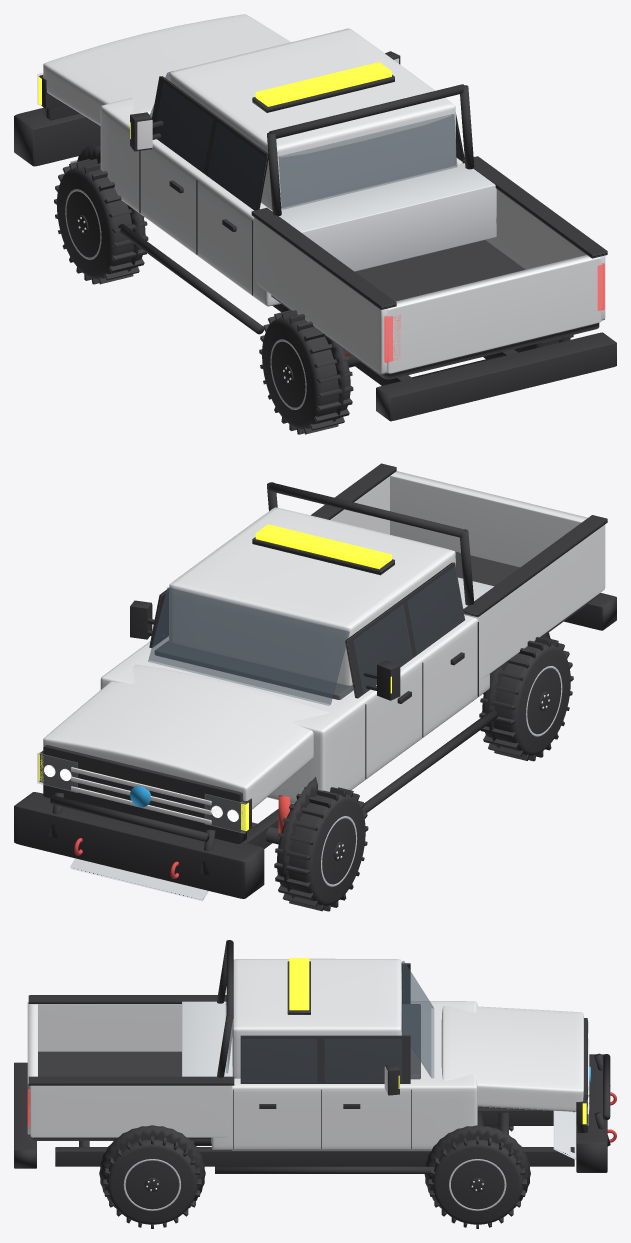
The model's file is mobile_truck.glb.
3 views of the same model, one above another, from view 1: azimuth 30°, elevation 25°; view 2: azimuth 150°, elevation 25°; view 3: azimuth 270°, elevation 25° (orthographic). The views are drawn at different scales.
Visible parts, largest first — view 1: Cab_Greenhouse, Tailgate, DiamondPlateToolbox, Cab_LowerBody, SculptedHood, RearCabWindow, RearStepBumper, BedSidePanel_-1, SideWindowFrame_-1, BedFloorLiner, TireCarcass_RL, TireCarcass_FL (+13 smaller); view 2: Cab_Greenhouse, SculptedHood, Cab_LowerBody, FlushWindshield, SteelWinchBumper, Tailgate, BedSidePanel_-1, FrontGrilleSurround, SideWindowFrame_-1, TireCarcass_FL, TireCarcass_RL, InteriorDashboard (+24 smaller); view 3: Cab_LowerBody, SculptedHood, Cab_Greenhouse, BedSidePanel_1, SideWindowFrame_1, BedSidePanel_-1, FrameRail_1, TireCarcass_FR, TireCarcass_RR, BedFloorLiner, RearDoorGlass_1, DiamondPlateToolbox (+18 smaller).
Boxes of the visible parts, x1,y1,x2,y2 form: Cab_Greenhouse: [169, 28, 455, 209]; Tailgate: [387, 255, 601, 373]; DiamondPlateToolbox: [271, 163, 496, 271]; Cab_LowerBody: [100, 98, 464, 306]; SculptedHood: [43, 14, 290, 125]; RearCabWindow: [278, 114, 457, 209]; RearStepBumper: [376, 332, 616, 421]; BedSidePanel_-1: [254, 217, 387, 374]; SideWindowFrame_-1: [152, 76, 268, 210]; BedFloorLiner: [271, 240, 599, 379]; TireCarcass_RL: [262, 317, 350, 429]; TireCarcass_FL: [57, 167, 145, 279]; Cab_Greenhouse: [169, 507, 455, 685]; SculptedHood: [43, 664, 329, 809]; Cab_LowerBody: [100, 614, 489, 803]; FlushWindshield: [148, 587, 349, 705]; SteelWinchBumper: [14, 792, 264, 898]; Tailgate: [390, 471, 587, 567]; BedSidePanel_-1: [465, 524, 605, 679]; FrontGrilleSurround: [43, 745, 246, 843]; SideWindowFrame_-1: [345, 562, 464, 698]; TireCarcass_FL: [277, 794, 365, 906]; TireCarcass_RL: [482, 644, 570, 756]; InteriorDashboard: [155, 641, 353, 699]; Cab_LowerBody: [211, 1001, 477, 1150]; SculptedHood: [441, 1005, 583, 1111]; Cab_Greenhouse: [232, 958, 401, 1078]; BedSidePanel_1: [30, 1085, 232, 1137]; SideWindowFrame_1: [240, 1035, 410, 1083]; BedSidePanel_-1: [32, 1004, 181, 1051]; FrameRail_1: [55, 1147, 574, 1166]; TireCarcass_FR: [432, 1139, 523, 1224]; TireCarcass_RR: [107, 1140, 197, 1224]; BedFloorLiner: [29, 1051, 211, 1140]; RearDoorGlass_1: [242, 1039, 316, 1082]; DiamondPlateToolbox: [182, 1001, 229, 1076].
Bounding box in the file's own units: 2.32 × 2.13 × 5.75.
